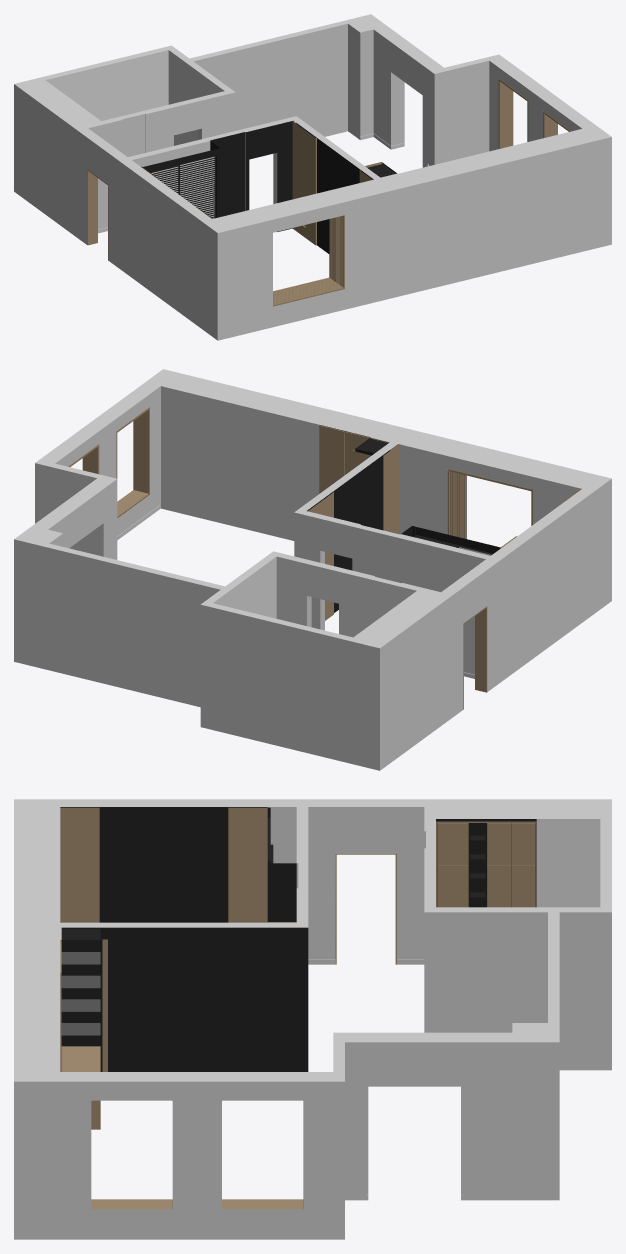
File: Walls.fbx
3 renders of one model, top to bottom at view 1: azimuth 30°, elevation 25°; view 2: azimuth 150°, elevation 25°; view 3: azimuth 270°, elevation 25°, orthographic. The views are drawn at different scales.
Parts seen in each view (by area): view 1: Walls; view 2: Walls; view 3: Walls.
Part boxes in pixels (x1,y1,x2,y2): Walls: (14,14,611,340); Walls: (14,369,611,770); Walls: (14,799,611,1239).
Size of the model in its own units: 1150 by 300 by 1030.
